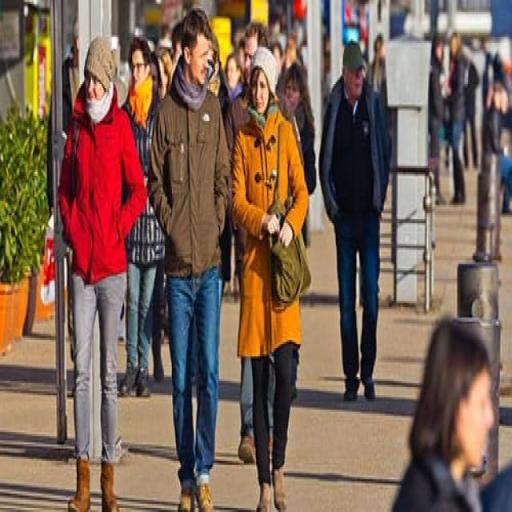person: (60, 38, 147, 511), (153, 13, 228, 512), (236, 50, 308, 512), (319, 40, 390, 407), (225, 27, 275, 462), (124, 38, 164, 400), (289, 64, 316, 399), (225, 52, 246, 300), (448, 35, 473, 202), (429, 44, 448, 208)
